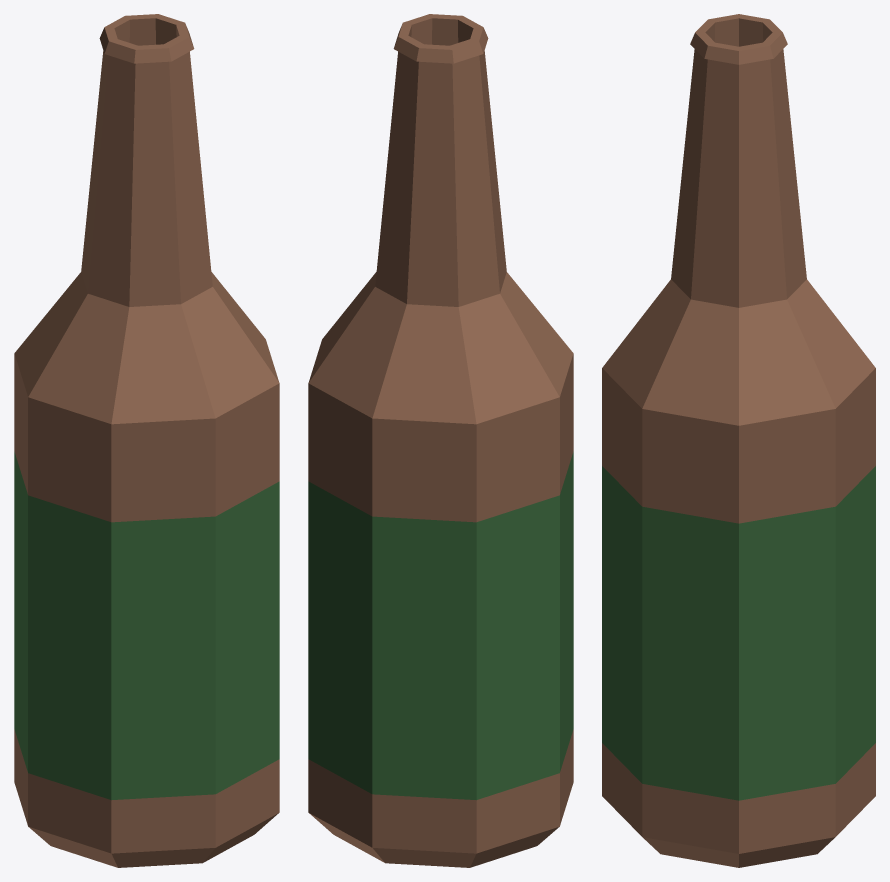
File: Garbage.fbx
The picture shows the model from 3 angles, left to right: view 1: azimuth 30°, elevation 25°; view 2: azimuth 150°, elevation 25°; view 3: azimuth 270°, elevation 25°; orthographic projection.
Parts seen in each view (by area): view 1: Cylinder.003; view 2: Cylinder.003; view 3: Cylinder.003.
Part boxes in pixels (x1=…): Cylinder.003: x1=14, y1=14, x2=279, y2=867; Cylinder.003: x1=308, y1=14, x2=573, y2=867; Cylinder.003: x1=602, y1=14, x2=875, y2=867.
Bounding box in the file's own units: 8.68 × 27.59 × 8.68.
